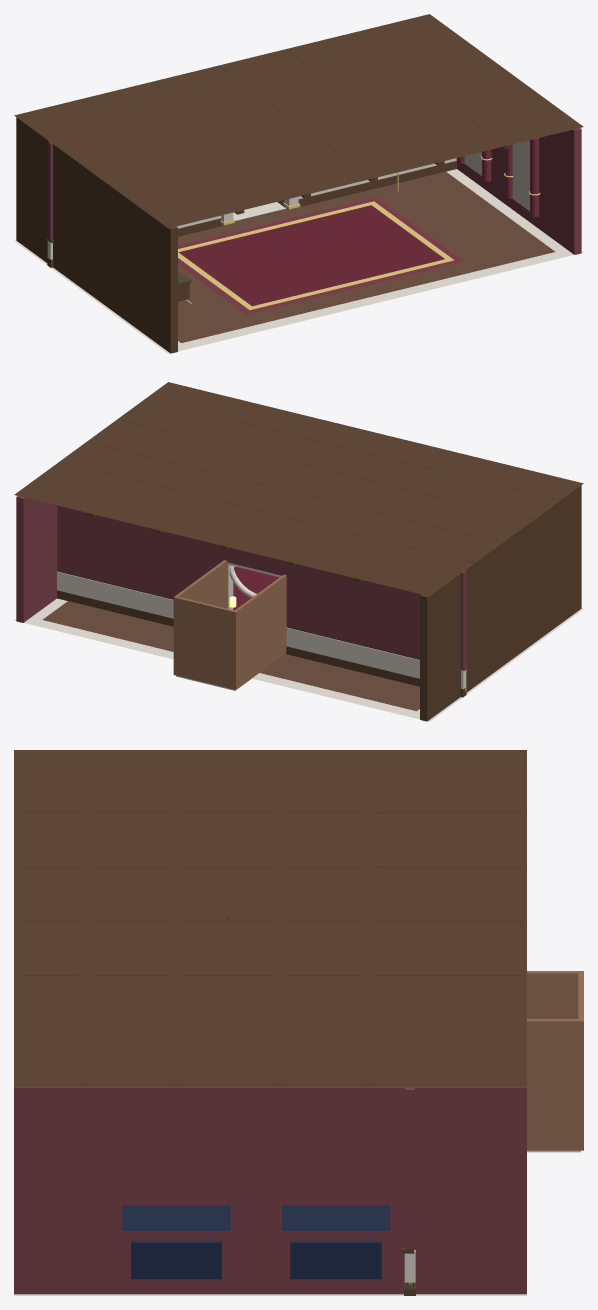
Rendered from room_madrid_salon.glb.
3 views of the same model, one above another, from view 1: azimuth 30°, elevation 25°; view 2: azimuth 150°, elevation 25°; view 3: azimuth 270°, elevation 25° (orthographic). The views are drawn at different scales.
Parts seen in each view (by area): view 1: Madrid_Ceiling_Artesonado.001, Madrid_LeftWall_Boiserie.001, Madrid_Floor_InlayBorder.001, Madrid_Rug_GarnetField.001, Madrid_RightWall_Boiserie.001, Madrid_Floor_Limestone.001, Madrid_Rug_Outer.001, Madrid_Rug_GoldKey.001, Madrid_CeilingBeam_Y_1.001, Madrid_CeilingBeam_Y_-5.001, Madrid_CeilingBeam_Y_5.001, Madrid_CeilingBeam_Y_-1.001 (+12 smaller); view 2: Madrid_Ceiling_Artesonado.001, Madrid_LeftWall_Boiserie.001, Madrid_BackWall_Upper_Right, Madrid_BackWall_Upper_Left, Madrid_Floor_InlayBorder.001, Madrid_Corridor_Wall_End, Madrid_RightWall_Boiserie.001, Madrid_Corridor_Wall_L, Madrid_Floor_Limestone.001, Madrid_TalaveraWainscoting_Left, Madrid_TalaveraWainscoting_Right, Madrid_CeilingBeam_Y_-1.001 (+13 smaller); view 3: Madrid_Ceiling_Artesonado.001, Madrid_RightWall_Boiserie.001, Madrid_Corridor_Wall_R, Madrid_CeilingBeam_Y_5.001, Madrid_CeilingBeam_Y_1.001, Madrid_CeilingBeam_Y_-5.001, Madrid_CeilingBeam_Y_-1.001, Madrid_CityRooftops_1.001, Madrid_CityRooftops_0.001, Madrid_CeilingBeam_X_-4.001, Madrid_CeilingBeam_X_4.001, Madrid_CeilingBeam_X_0.001 (+8 smaller).
Part boxes in pixels (x1,y1,x2,y2): Madrid_Ceiling_Artesonado.001: (14, 14, 583, 228); Madrid_LeftWall_Boiserie.001: (16, 117, 177, 353); Madrid_Floor_InlayBorder.001: (178, 171, 555, 342); Madrid_Rug_GarnetField.001: (179, 205, 444, 306); Madrid_RightWall_Boiserie.001: (456, 128, 581, 254); Madrid_Floor_Limestone.001: (14, 169, 583, 353); Madrid_Rug_Outer.001: (178, 197, 463, 314); Madrid_Rug_GoldKey.001: (178, 201, 453, 310); Madrid_CeilingBeam_Y_1.001: (90, 68, 502, 170); Madrid_CeilingBeam_Y_-5.001: (148, 110, 561, 213); Madrid_CeilingBeam_Y_5.001: (62, 47, 475, 150); Madrid_CeilingBeam_Y_-1.001: (120, 90, 533, 193); Madrid_Ceiling_Artesonado.001: (14, 382, 583, 596); Madrid_LeftWall_Boiserie.001: (420, 485, 581, 721); Madrid_BackWall_Upper_Right: (57, 505, 225, 598); Madrid_BackWall_Upper_Left: (285, 561, 466, 669); Madrid_Floor_InlayBorder.001: (42, 601, 419, 710); Madrid_Corridor_Wall_End: (173, 596, 237, 689); Madrid_RightWall_Boiserie.001: (16, 496, 57, 622); Madrid_Corridor_Wall_L: (234, 574, 286, 688); Madrid_Floor_Limestone.001: (14, 598, 583, 721); Madrid_TalaveraWainscoting_Left: (286, 627, 466, 691); Madrid_TalaveraWainscoting_Right: (57, 571, 173, 618); Madrid_CeilingBeam_Y_-1.001: (120, 417, 533, 519); Madrid_Ceiling_Artesonado.001: (14, 750, 526, 1087); Madrid_RightWall_Boiserie.001: (14, 1087, 526, 1294); Madrid_Corridor_Wall_R: (527, 1019, 580, 1150); Madrid_CeilingBeam_Y_5.001: (363, 752, 376, 1084); Madrid_CeilingBeam_Y_1.001: (272, 752, 285, 1084); Madrid_CeilingBeam_Y_-5.001: (78, 752, 91, 1084); Madrid_CeilingBeam_Y_-1.001: (170, 752, 182, 1084); Madrid_CityRooftops_1.001: (290, 1240, 381, 1279); Madrid_CityRooftops_0.001: (131, 1240, 221, 1279); Madrid_CeilingBeam_X_-4.001: (19, 861, 521, 867); Madrid_CeilingBeam_X_4.001: (19, 969, 521, 975); Madrid_CeilingBeam_X_0.001: (19, 915, 521, 921).
Size of the model in its own units: 29 by 8.17 by 20.
